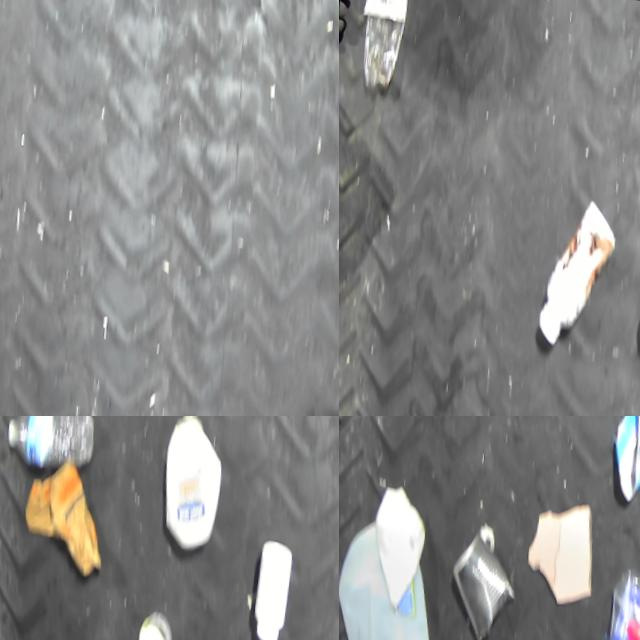can: (438, 518, 518, 640), (601, 416, 640, 502), (125, 603, 171, 640)
milk_jug: (339, 504, 444, 640)
plastic_bottle: (354, 0, 413, 95), (0, 416, 95, 475)
